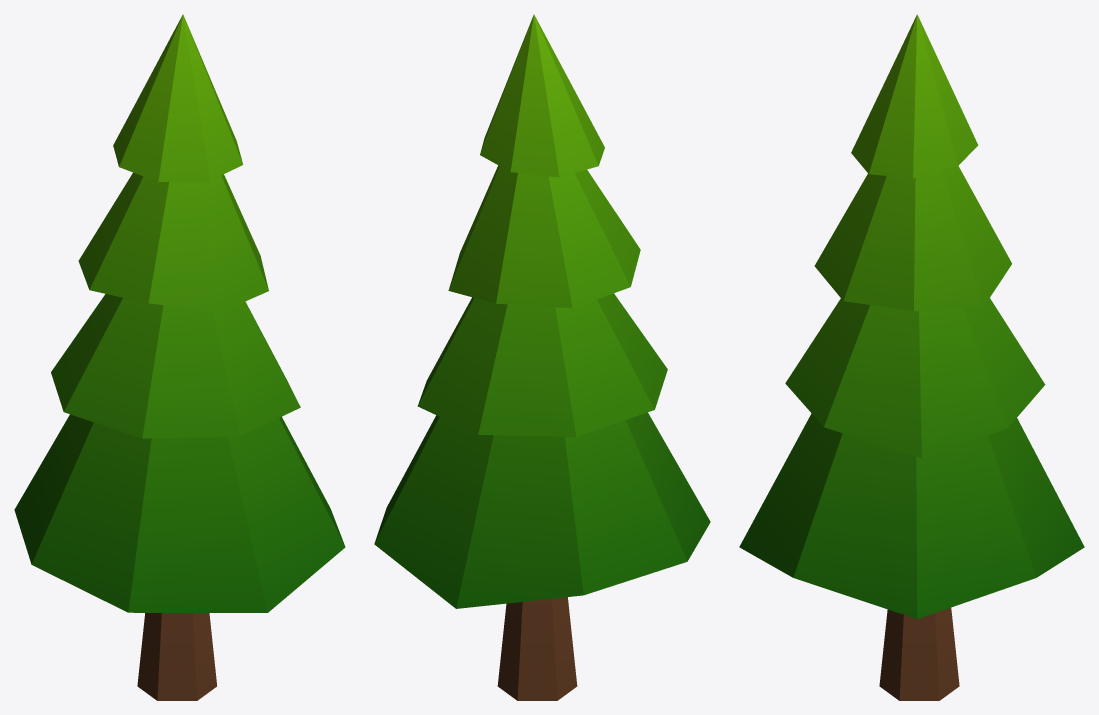
File: tree_pine_1.fbx
3 renders of one model, left to right at view 1: azimuth 30°, elevation 25°; view 2: azimuth 150°, elevation 25°; view 3: azimuth 270°, elevation 25°, orthographic.
Parts seen in each view (by area): view 1: tree_pine_1; view 2: tree_pine_1; view 3: tree_pine_1.
Part boxes in pixels (x1=…): tree_pine_1: x1=14, y1=14, x2=345, y2=700; tree_pine_1: x1=374, y1=14, x2=710, y2=700; tree_pine_1: x1=739, y1=14, x2=1084, y2=700.
Bounding box in the file's own units: 2.91 × 6.22 × 2.89.
